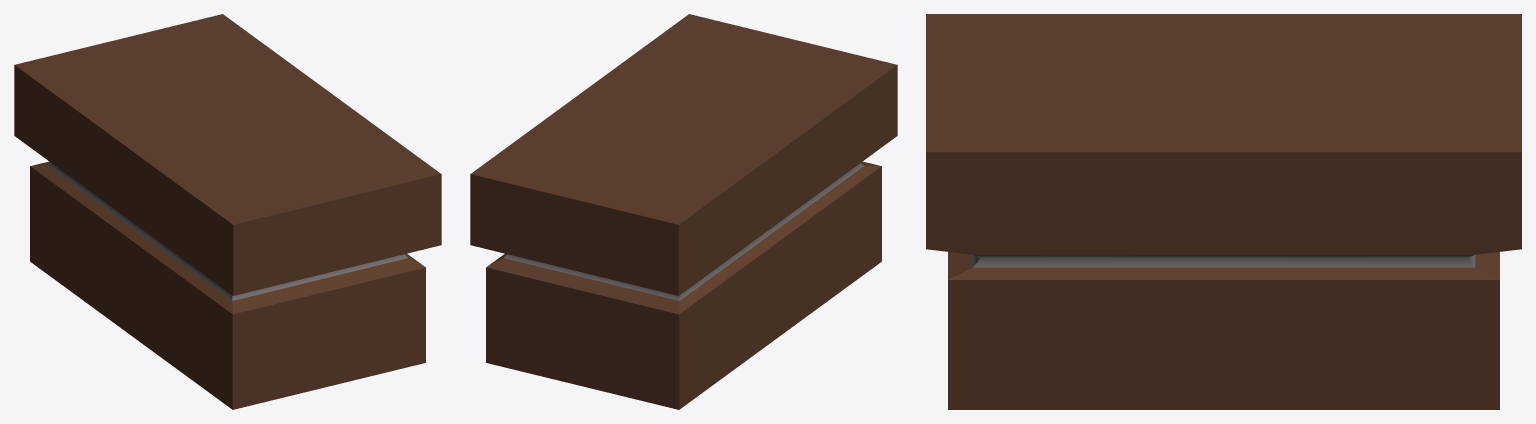
Rendered from kist.fbx.
3 views of the same model, side by side, from view 1: azimuth 30°, elevation 25°; view 2: azimuth 150°, elevation 25°; view 3: azimuth 270°, elevation 25° (orthographic). The views are drawn at different scales.
Parts seen in each view (by area): view 1: kistje; view 2: kistje; view 3: kistje.
Part boxes in pixels (bbox=[...]): kistje: bbox=[14, 14, 441, 409]; kistje: bbox=[470, 14, 897, 409]; kistje: bbox=[926, 14, 1521, 409].
Size of the model in its own units: 0.5922 by 0.5237 by 1.08.
